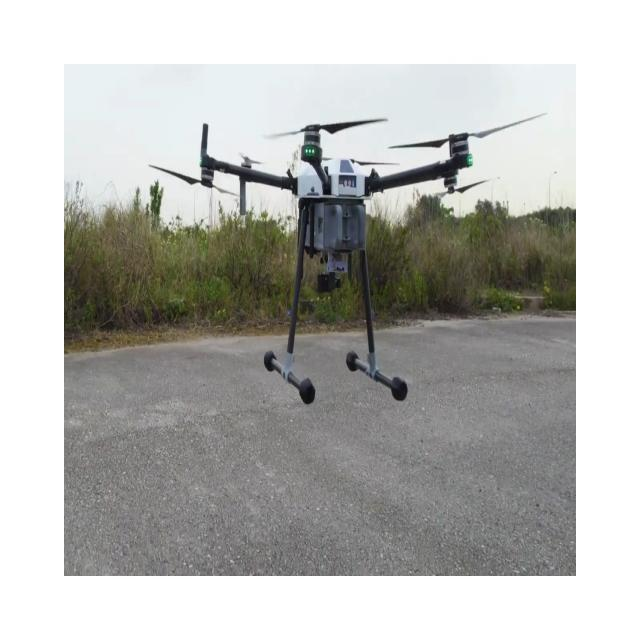drone: (148, 110, 547, 405)
